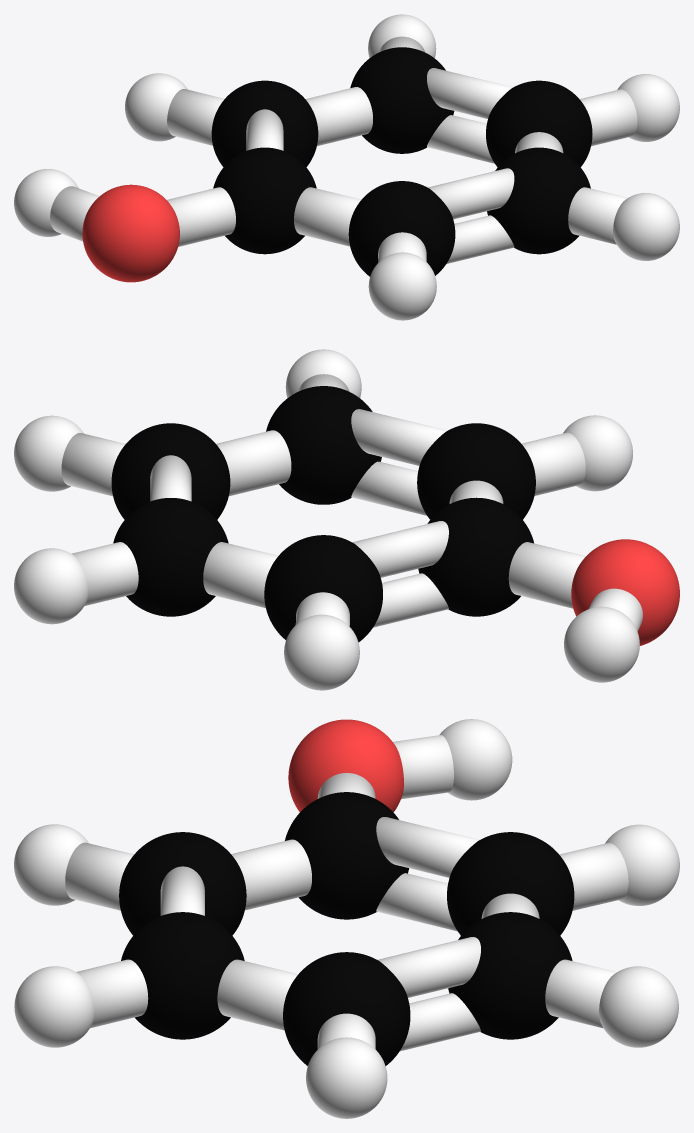
3 renders of one model, top to bottom at view 1: azimuth 30°, elevation 25°; view 2: azimuth 150°, elevation 25°; view 3: azimuth 270°, elevation 25°, orthographic. The views are drawn at different scales.
Visible parts, largest first — view 1: molecule; view 2: molecule; view 3: molecule.
Boxes of the visible parts, x1,y1,x2,y2 form: molecule: [14, 14, 679, 320]; molecule: [14, 349, 679, 690]; molecule: [14, 719, 679, 1118].
Bounding box in the file's own units: 6.15 × 0.9401 × 4.91.
